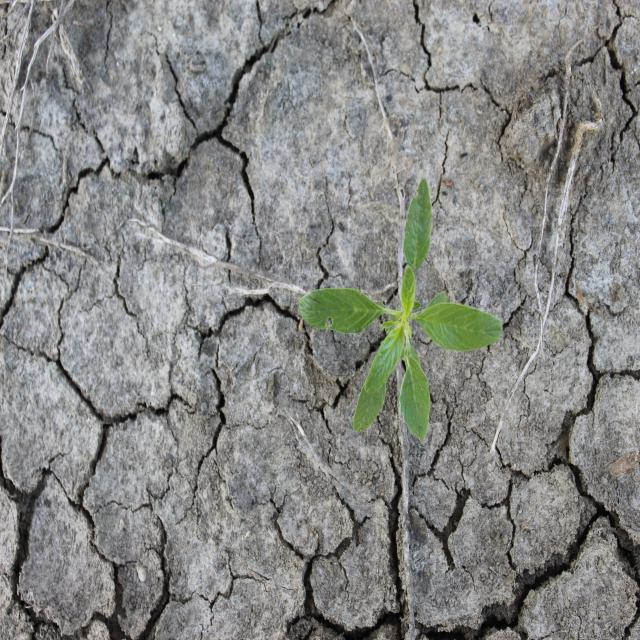Waterhemp: (297, 178, 504, 444)
